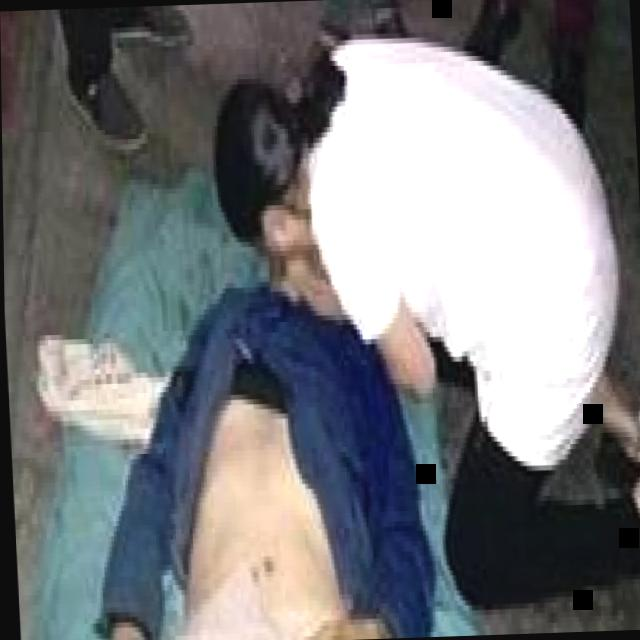Fall-Detected: (40, 191, 529, 640)
